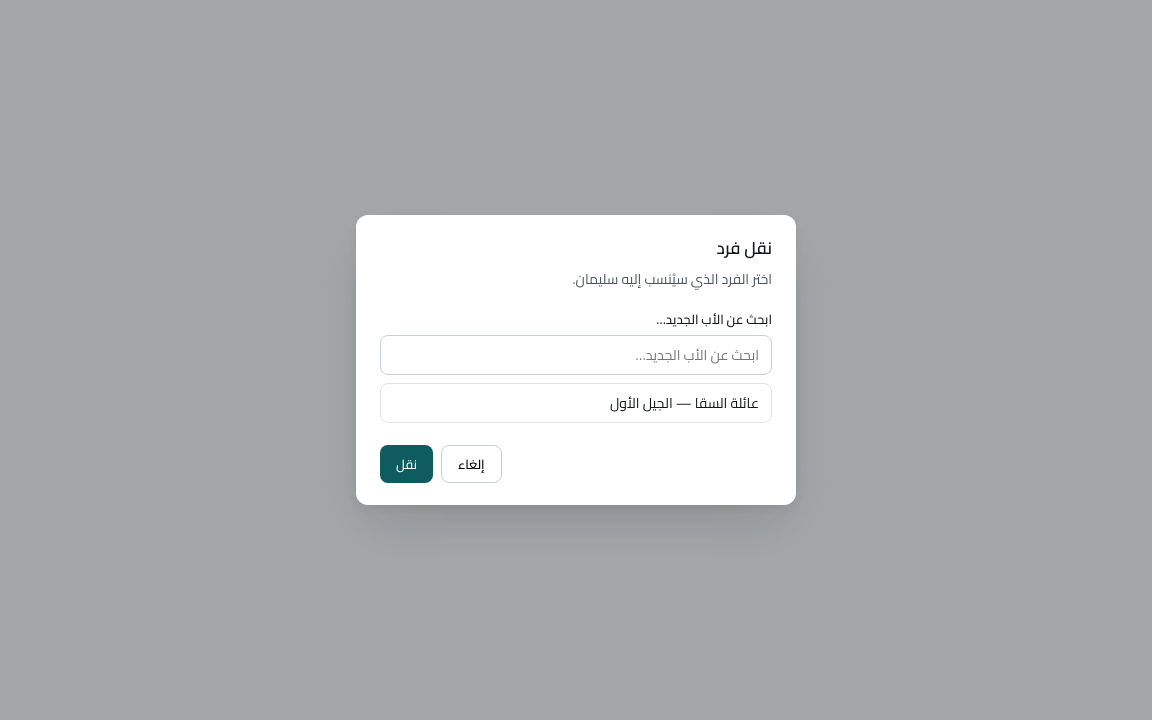
Scenario: MoveDialog › disables the member themselves and their descendants, with the reason
The image size is (1152, 720).
In the field labelled "ابحث عن الأب الجديد…": [576, 355] box [380, 335, 772, 375], type "ال"
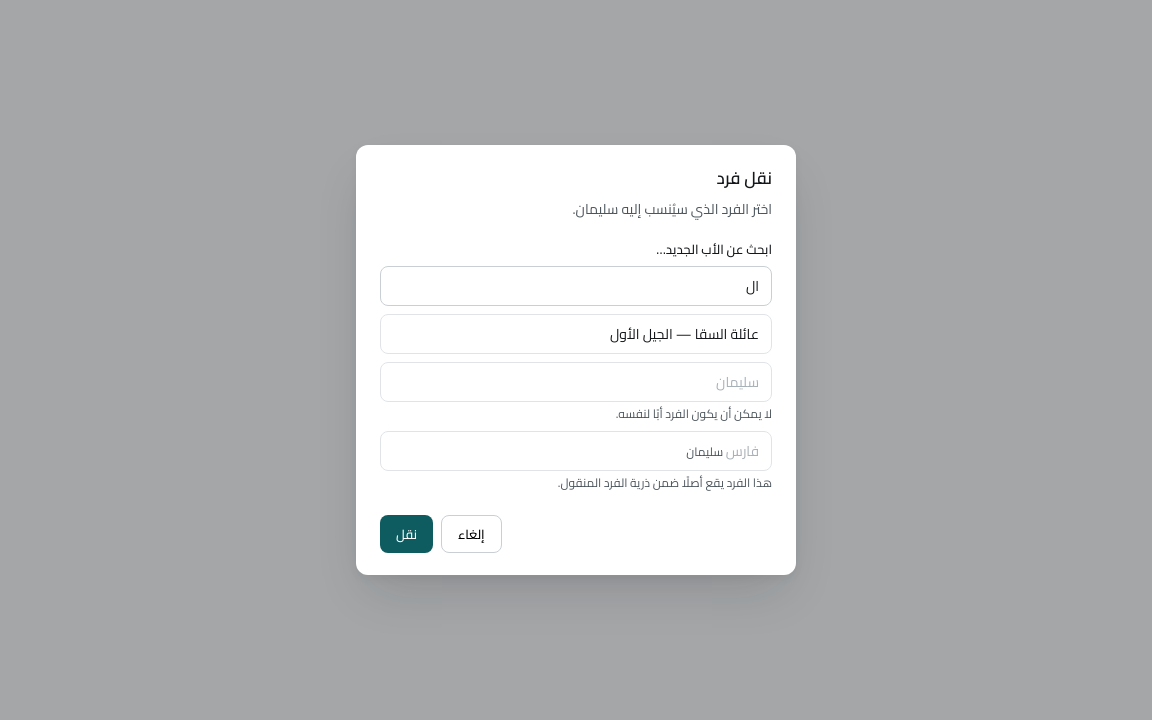
Expected: the button "سليمان" is disabled, [380, 362, 772, 402]
Expected: the button "فارس سليمان" is disabled, [380, 431, 772, 471]
Expected: the text "لا يمكن أن يكون الفرد أبًا لنفسه." is shown, [616, 402, 772, 425]
